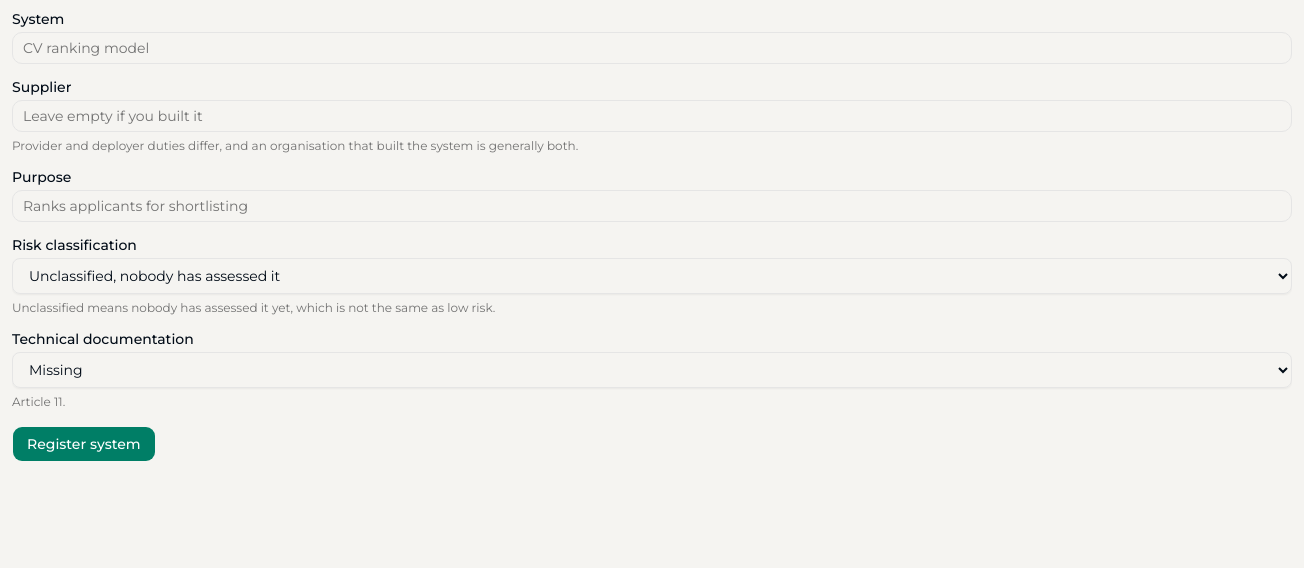
Test: the AI system form › asks for one when a new system is classified high, and not otherwise
Expected: the text "reviewed approval" is not shown
Select "Limited" in the dropdown labelled "Risk classification" at (652, 276), box 12,258 -> 1292,294
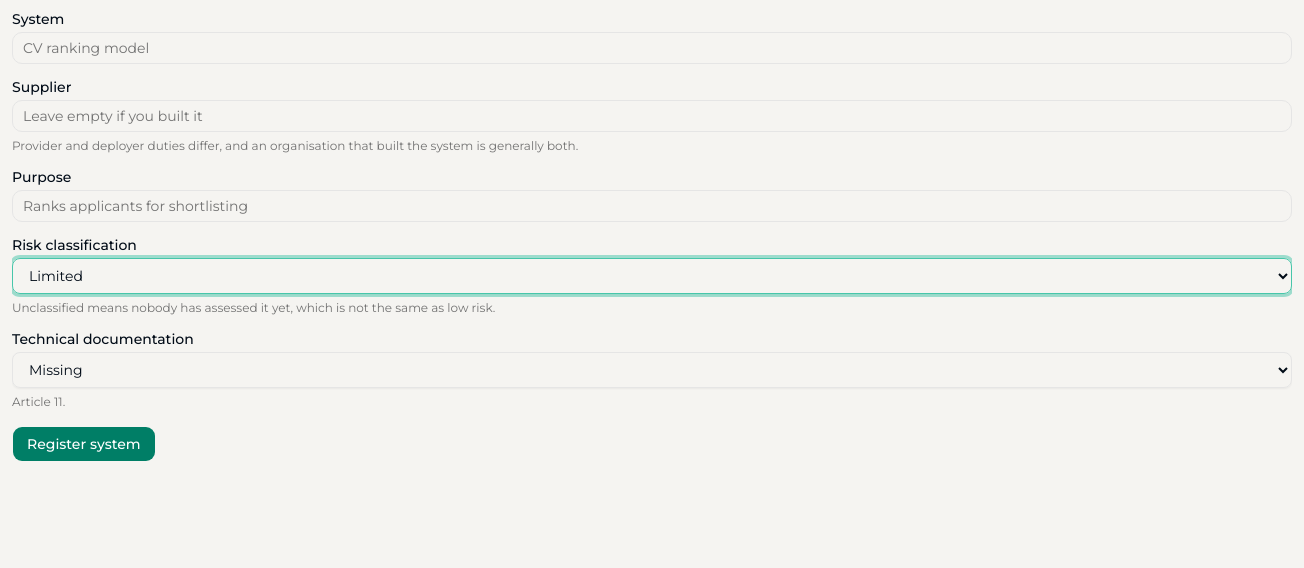
Expected: the text "reviewed approval" is not shown
Select "High risk" in the dropdown labelled "Risk classification" at (652, 276), box 12,258 -> 1292,294
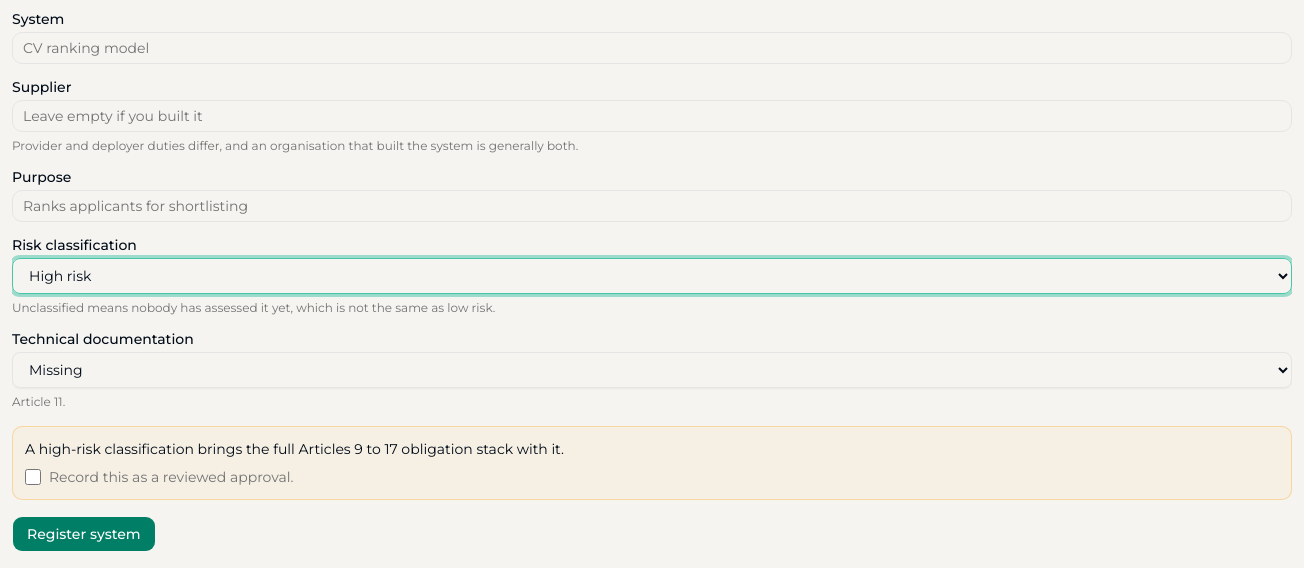
Now the text "Record this as a reviewed approval." is shown, box 49,467 -> 294,487
